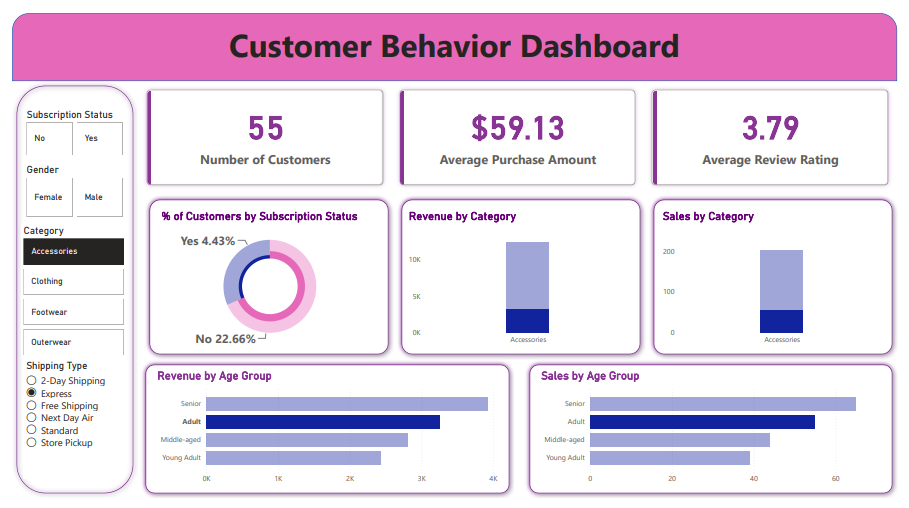

The dashboard page shown, as its layout file describes it:
{"tool":"powerbi","page":{"name":"Page 1","canvas":[1500,820],"ordinal":0},"visuals":[{"type":"cardVisual","fields":{"Data":["public customer.Number of Customers","public customer.Average Purchase Amount","public customer.Average Review Rating"]},"box":[212.9,115.3,1286.5,191.6],"z":2000},{"type":"shape","box":[218.3,585.6,631.7,234.2],"z":2500,"group":"g1"},{"type":"shape","box":[0,0,1499.4,115.3],"z":3000},{"type":"textbox","box":[0,12.4,1499.4,102.9],"z":4000},{"type":"shape","box":[225.4,307,420.5,278.6],"z":5000},{"type":"donutChart","title":"% of Customers by Subscription Status","fields":{"Category":["public customer.subscription_status"],"Y":["CountNonNull(public customer.customer_id)"]},"box":[248.4,331.8,376.2,237.8],"z":6000},{"type":"shape","box":[1078.9,307,420.5,278.6],"z":7000},{"type":"shape","box":[652.1,307,420.5,278.6],"z":8000},{"type":"clusteredColumnChart","title":"Revenue by Category","fields":{"Y":["Sum(public customer.purchase_amount)"],"Category":["public customer.category"]},"box":[667.2,331.8,385.1,237.8],"z":9000},{"type":"clusteredColumnChart","title":"Sales by Category","fields":{"Y":["CountNonNull(public customer.customer_id)"],"Category":["public customer.category"]},"box":[1096.6,331.8,385.1,237.8],"z":10000},{"type":"shape","box":[0,115.3,212.9,704.5],"z":11000},{"type":"advancedSlicerVisual","fields":{"Values":["public customer.subscription_status"]},"box":[19.5,161.5,173.9,85.2],"z":12000},{"type":"advancedSlicerVisual","fields":{"Values":["public customer.gender"]},"box":[19.5,264.4,173.9,85.2],"z":13000},{"type":"advancedSlicerVisual","fields":{"Values":["public customer.category"]},"box":[14.2,358.4,179.2,186.3],"z":14000},{"type":"listSlicer","fields":{"Values":["public customer.shipping_type"]},"box":[19.5,569.6,168.6,220],"z":15000},{"type":"shape","box":[867.7,585.6,631.7,234.2],"z":16000},{"type":"clusteredBarChart","title":"Sales by Age Group","fields":{"Y":["CountNonNull(public customer.customer_id)"],"Category":["public customer.age_group"]},"box":[890.8,601.5,585.6,204.1],"z":17000},{"type":"clusteredBarChart","title":"Revenue by Age Group","fields":{"Y":["Sum(public customer.purchase_amount)"],"Category":["public customer.age_group"]},"box":[241.4,601.6,585.6,204.1],"z":17500,"group":"g1"},{"type":"group","id":"g1","title":"Group 1","box":[218.3,585.6,631.7,234.2],"z":17501}]}

Visuals, with their boxes in screenshot pixels (x1, y1, x2, y2), scaled from the page's 1500x820 canvas onto the 909x508 screenshot:
cardVisual - public customer.Number of Customers x public customer.Average Purchase Amount: (129, 71, 908, 190)
shape: (132, 363, 515, 507)
shape: (0, 0, 908, 71)
textbox: (0, 8, 908, 71)
shape: (137, 190, 391, 363)
"% of Customers by Subscription Status" donutChart: (151, 206, 379, 353)
shape: (654, 190, 908, 363)
shape: (395, 190, 650, 363)
"Revenue by Category" clusteredColumnChart: (404, 206, 638, 353)
"Sales by Category" clusteredColumnChart: (665, 206, 898, 353)
shape: (0, 71, 129, 507)
advancedSlicerVisual - public customer.subscription_status: (12, 100, 117, 153)
advancedSlicerVisual - public customer.gender: (12, 164, 117, 217)
advancedSlicerVisual - public customer.category: (9, 222, 117, 337)
listSlicer - public customer.shipping_type: (12, 353, 114, 489)
shape: (526, 363, 908, 507)
"Sales by Age Group" clusteredBarChart: (540, 373, 895, 499)
"Revenue by Age Group" clusteredBarChart: (146, 373, 501, 499)
"Group 1" group: (132, 363, 515, 507)
